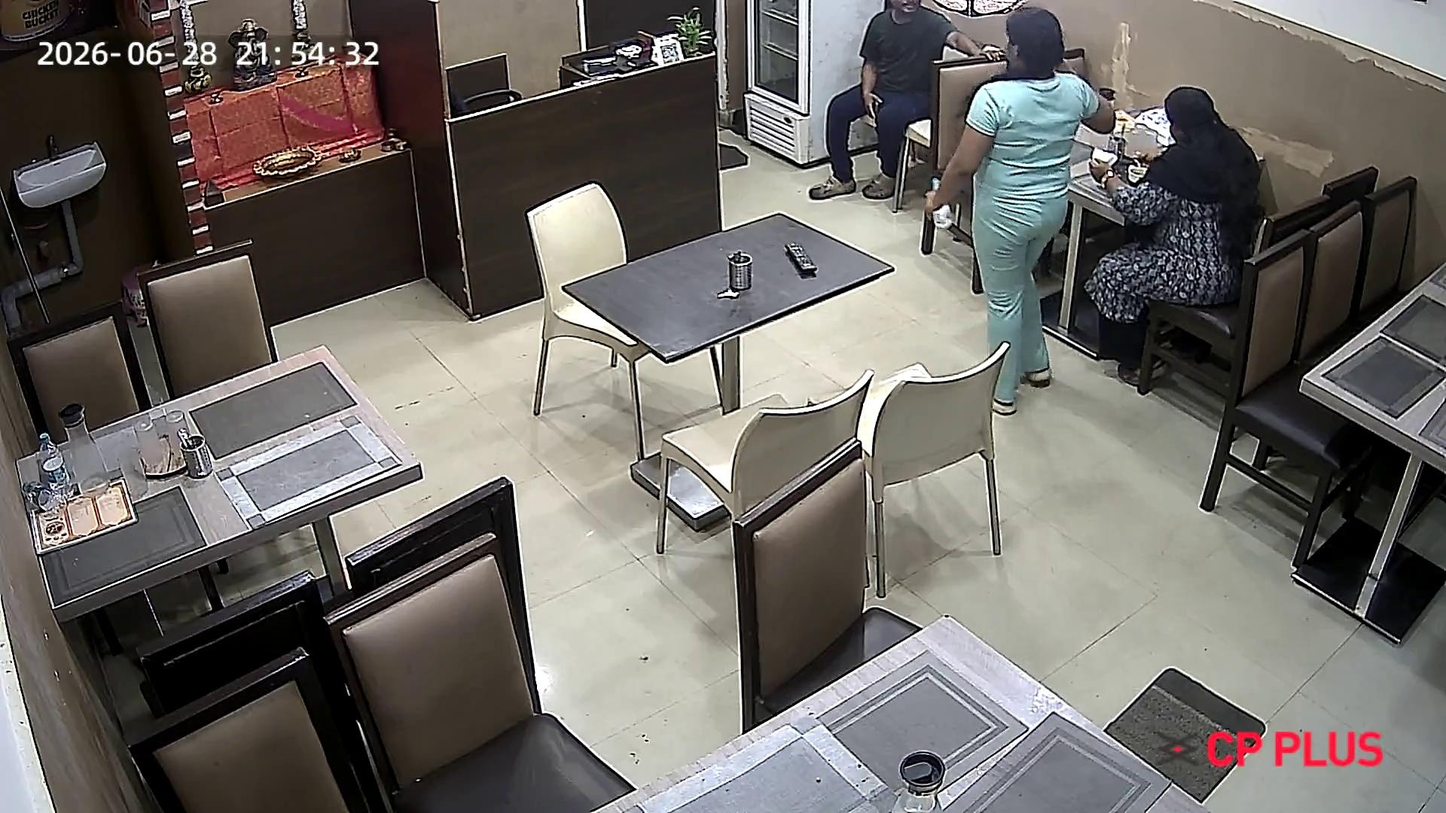clean: (618, 602, 1135, 813), (565, 213, 888, 360)
dirty: (13, 338, 433, 606)
occupied: (989, 57, 1326, 313)
